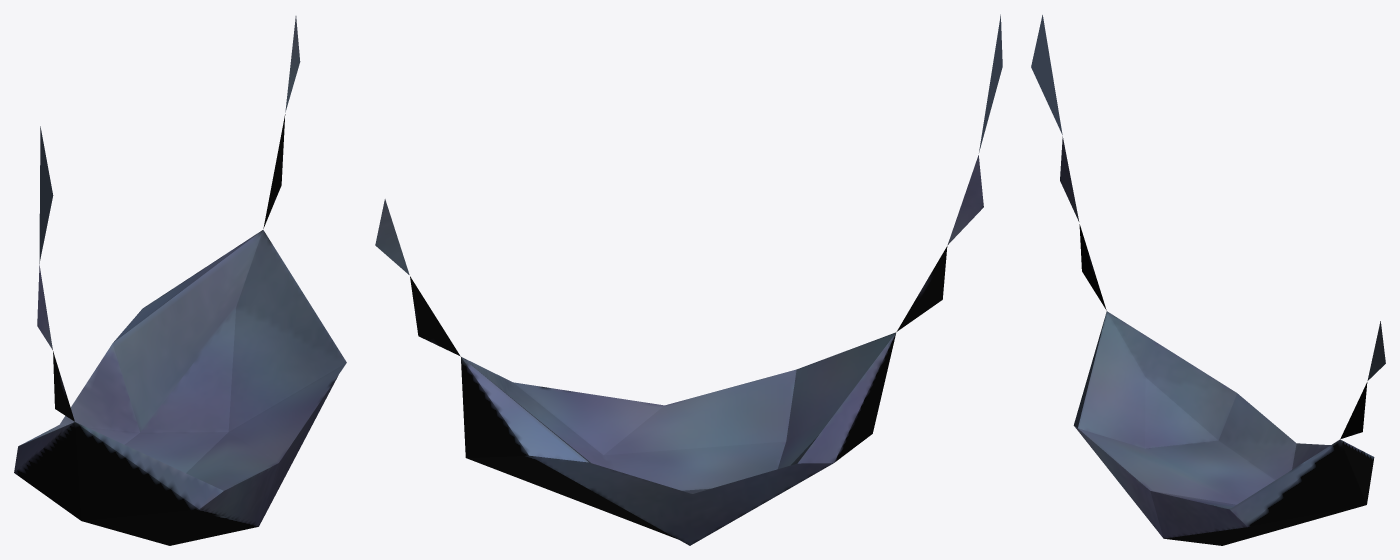
Rendered from swing.fbx_hammock.fbx.
3 views of the same model, side by side, from view 1: azimuth 30°, elevation 25°; view 2: azimuth 150°, elevation 25°; view 3: azimuth 270°, elevation 25° (orthographic). The views are drawn at different scales.
Visible parts, largest first — view 1: Hammock1; view 2: Hammock1; view 3: Hammock1.
Boxes of the visible parts, <box> form: Hammock1: <box>14,16,346,545</box>; Hammock1: <box>375,14,1002,545</box>; Hammock1: <box>1031,15,1385,545</box>.
Bounding box in the file's own units: 318 × 358 × 262.
